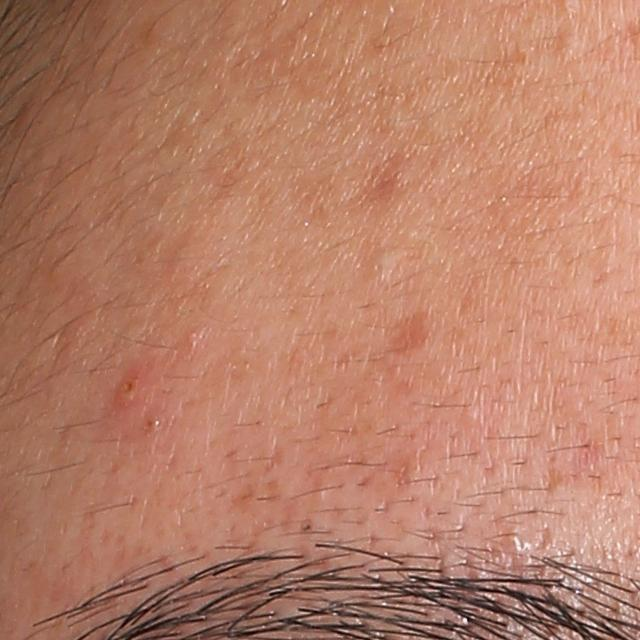atrophic_scar: (353, 151, 411, 204), (382, 313, 447, 353)
comedo: (555, 29, 582, 64)
papule: (113, 366, 148, 410)
